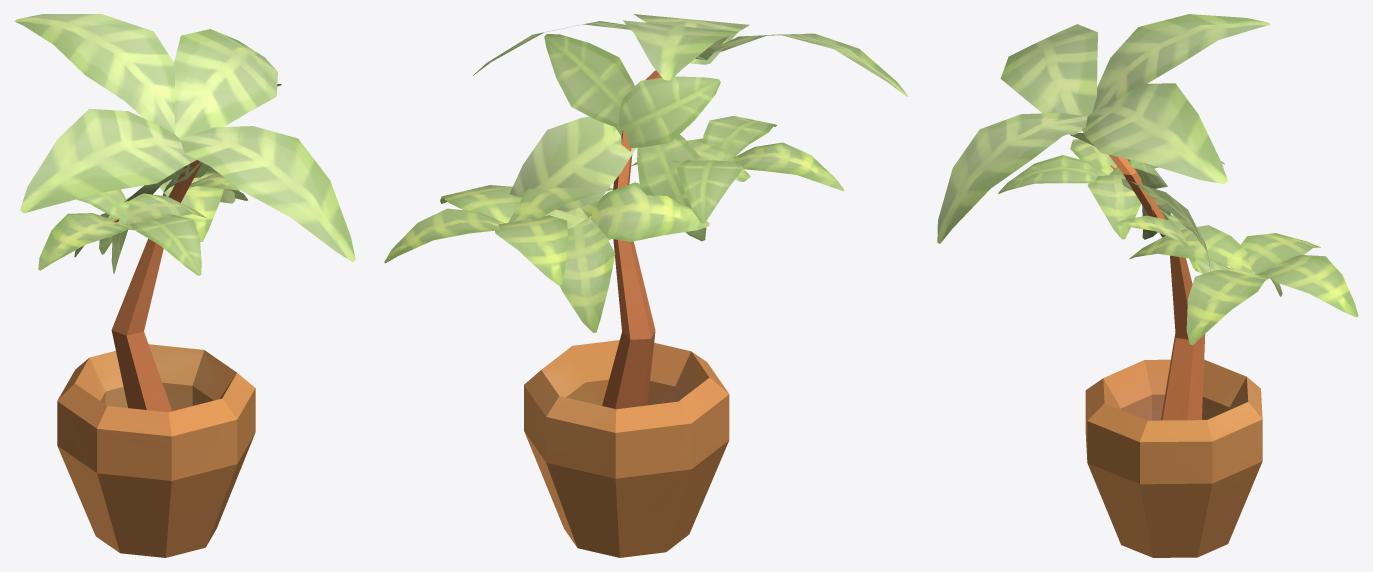
The model's file is FleurB.glb.
3 renders of one model, left to right at view 1: azimuth 30°, elevation 25°; view 2: azimuth 150°, elevation 25°; view 3: azimuth 270°, elevation 25°, orthographic. The views are drawn at different scales.
Parts seen in each view (by area): view 1: FleurB.005; view 2: FleurB.005; view 3: FleurB.005.
Boxes of the visible parts, <box> form: FleurB.005: <box>14,14,355,557</box>; FleurB.005: <box>384,14,908,557</box>; FleurB.005: <box>937,14,1358,557</box>.
Bounding box in the file's own units: 0.7076 × 0.9184 × 0.7292.
Materials: 1 (1 with a texture image).
